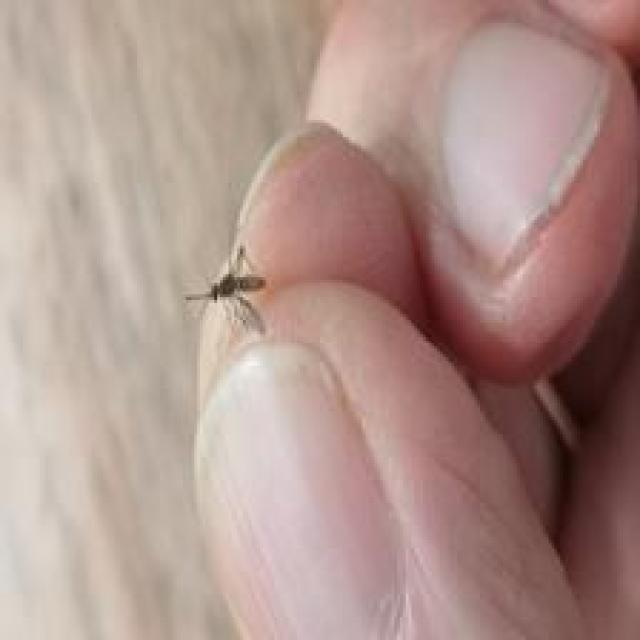Culex: (183, 244, 268, 336)
